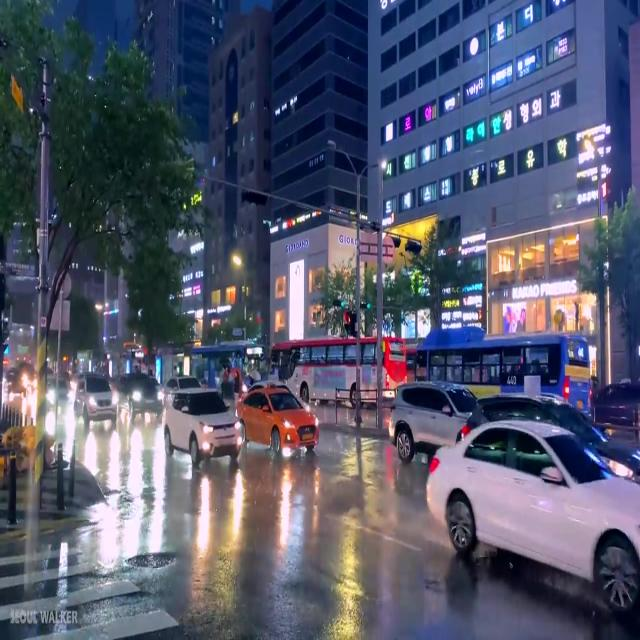Car: (426, 417, 639, 606), (160, 389, 241, 470), (242, 386, 315, 451)
